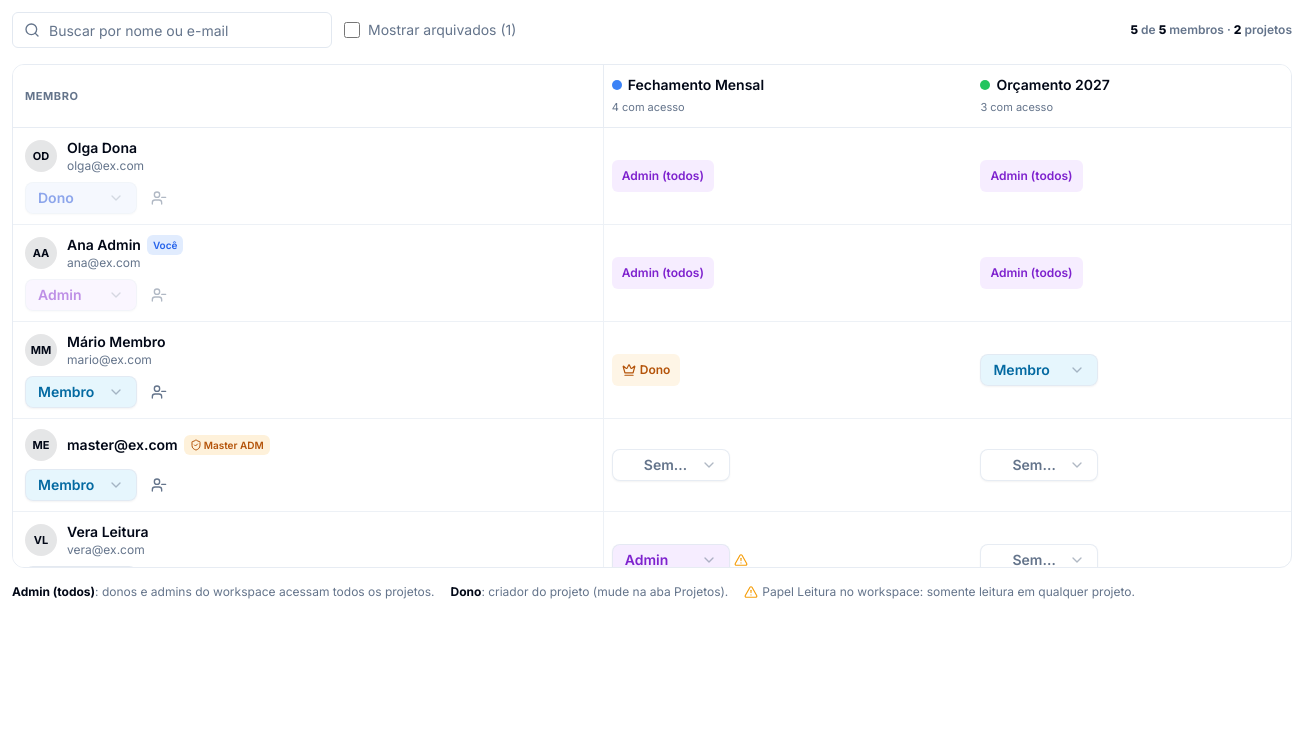
AccessMatrix › carrega o overview do workspace e mostra células somente leitura para admins e dono
expect the column heading "Fechamento Mensal 4 com acesso" is shown: met, box [604,65,972,128]
expect the column heading "Legado" is not shown: met
# Mostrar arquivados
Click the checkbox labelled "Mostrar arquivados (1)" at [352, 30], box [344,22,360,38]
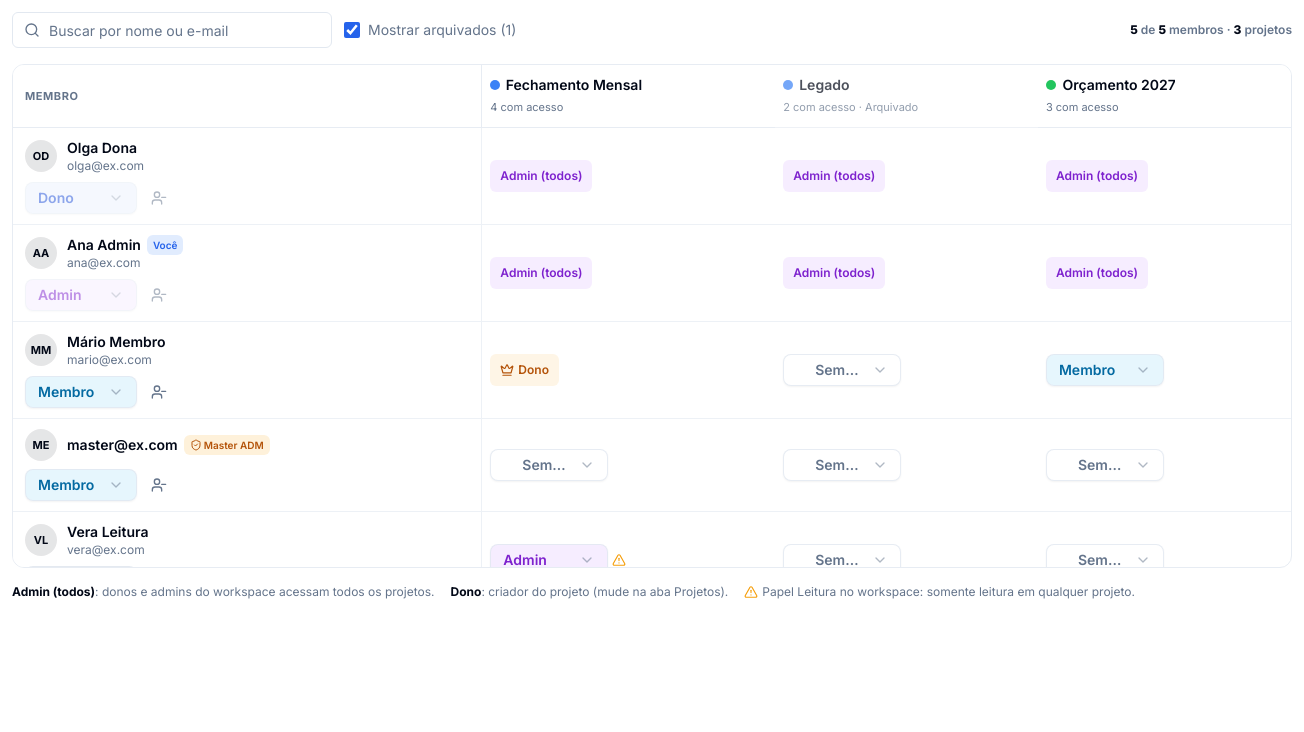
expect the column heading "Legado 2 com acesso · Arquivado" is shown: met, box [775,65,1038,128]
